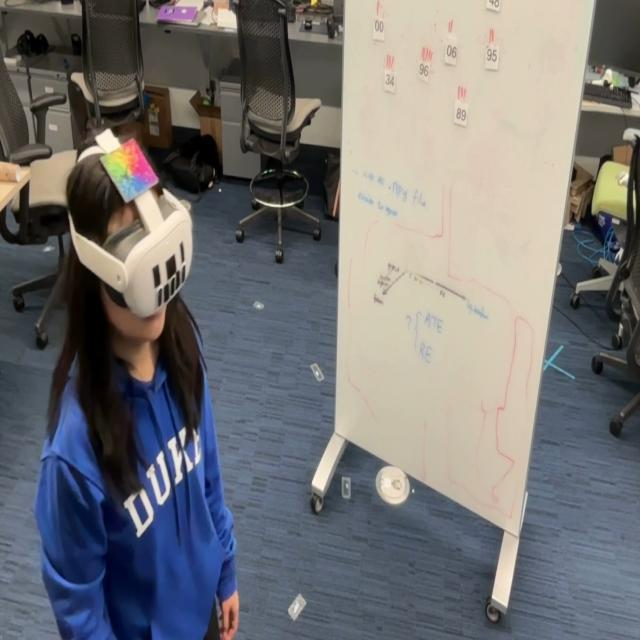Headset: (67, 181, 193, 319)
Marker: (99, 135, 159, 206)
